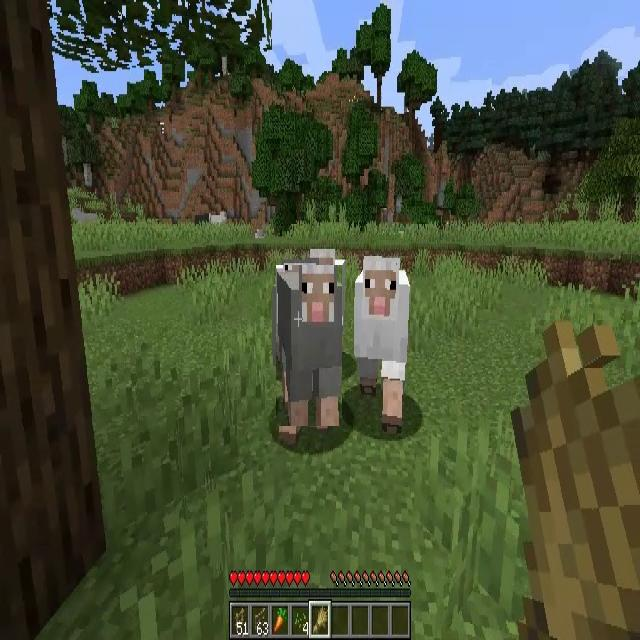sheep: (276, 265, 342, 426), (354, 255, 410, 422), (209, 210, 226, 227)
